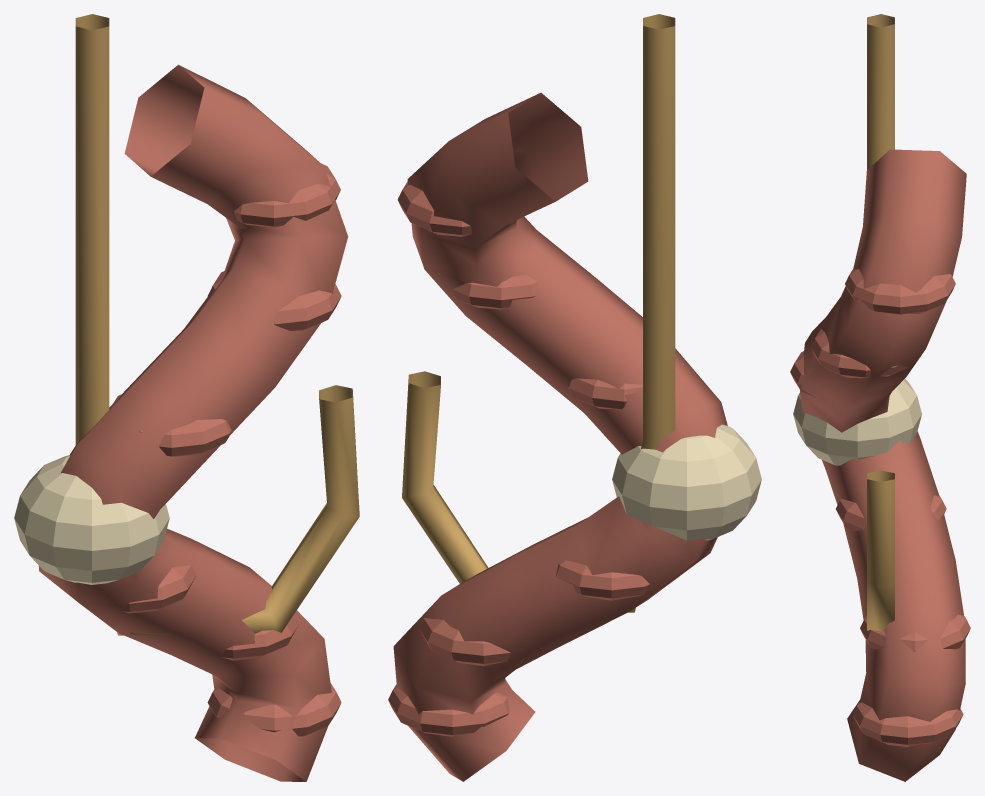
The model's file is bait_worm.glb.
3 renders of one model, left to right at view 1: azimuth 30°, elevation 25°; view 2: azimuth 150°, elevation 25°; view 3: azimuth 270°, elevation 25°, orthographic. The views are drawn at different scales.
Visible parts, largest first — view 1: Curved_worm, Hook.001, Clitellum, Worm_segment.006, Worm_segment, Worm_segment.002, Worm_segment.001, Worm_segment.004, Worm_segment.005; view 2: Curved_worm, Hook.001, Clitellum, Worm_segment.006, Worm_segment.005, Worm_segment.004, Worm_segment.001, Worm_segment, Worm_segment.002; view 3: Curved_worm, Hook.001, Clitellum, Worm_segment, Worm_segment.006, Worm_segment.005, Worm_segment.001, Worm_segment.004, Worm_segment.002.
Part boxes in pixels (left/top/right/bottom): Curved_worm: left=38, top=64, right=348, bottom=781; Hook.001: left=75, top=14, right=359, bottom=635; Clitellum: left=14, top=455, right=169, bottom=584; Worm_segment.006: left=207, top=682, right=341, bottom=736; Worm_segment: left=233, top=163, right=340, bottom=227; Worm_segment.002: left=110, top=394, right=231, bottom=456; Worm_segment.001: left=207, top=270, right=341, bottom=330; Worm_segment.004: left=123, top=565, right=196, bottom=613; Worm_segment.005: left=221, top=615, right=298, bottom=660; Curved_worm: left=393, top=93, right=727, bottom=781; Hook.001: left=402, top=14, right=675, bottom=612; Clitellum: left=612, top=424, right=761, bottom=540; Worm_segment.006: left=388, top=679, right=511, bottom=736; Worm_segment.005: left=419, top=618, right=510, bottom=666; Worm_segment.004: left=555, top=560, right=649, bottom=600; Worm_segment.001: left=452, top=275, right=537, bottom=309; Worm_segment: left=397, top=182, right=514, bottom=236; Worm_segment.002: left=567, top=363, right=684, bottom=409; Curved_worm: left=800, top=149, right=966, bottom=781; Hook.001: left=867, top=14, right=894, bottom=631; Clitellum: left=793, top=379, right=921, bottom=465; Worm_segment: left=845, top=269, right=955, bottom=314; Worm_segment.006: left=852, top=702, right=963, bottom=746; Worm_segment.005: left=860, top=614, right=970, bottom=651; Worm_segment.001: left=810, top=329, right=908, bottom=378; Worm_segment.004: left=836, top=495, right=946, bottom=531; Worm_segment.002: left=790, top=351, right=815, bottom=397.
Bounding box in the file's own units: 0.0932 × 0.2092 × 0.0505.
